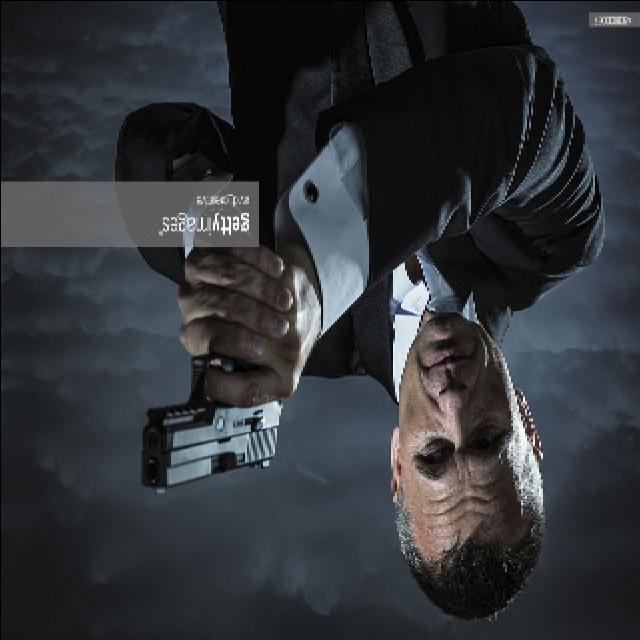handgun: (139, 395, 291, 491)
